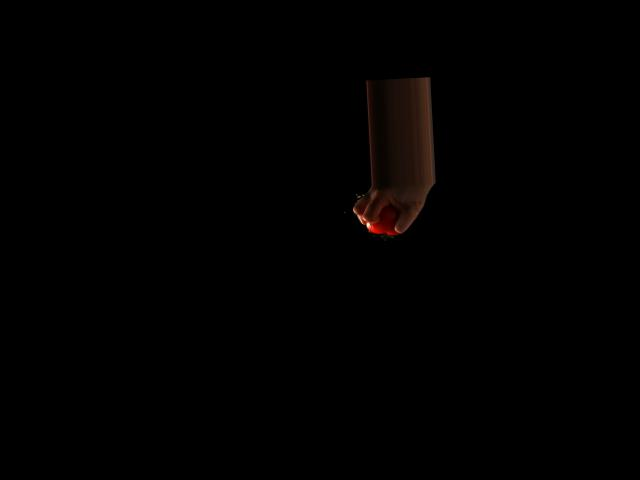tomato: (365, 204, 401, 236)
